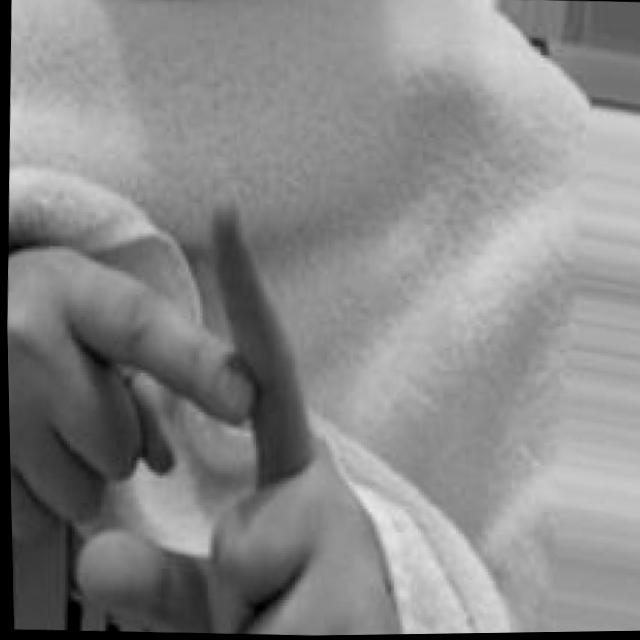J: (4, 171, 414, 640)
